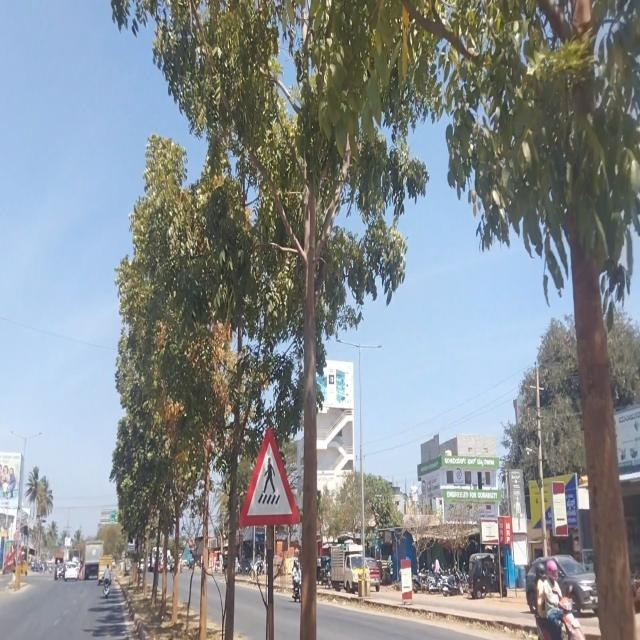bien_nguy_hiem: (238, 424, 300, 526)
